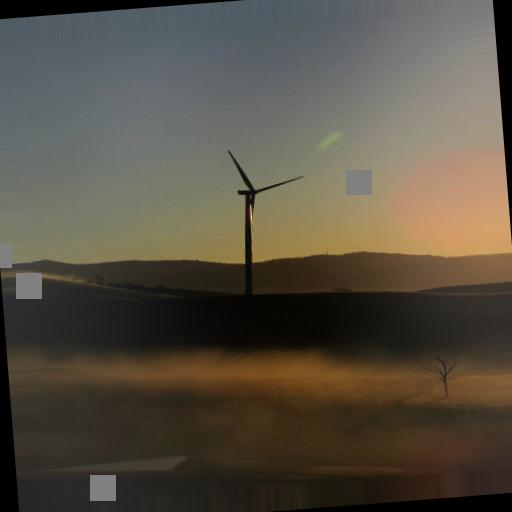wind turbine: (225, 149, 307, 297)
